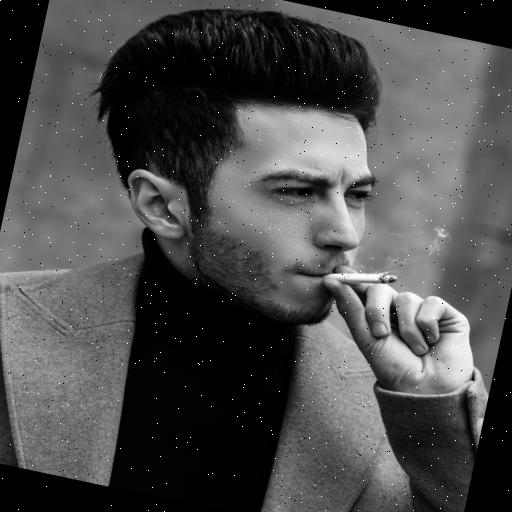terdeteksi merokok: (236, 130, 446, 352)
